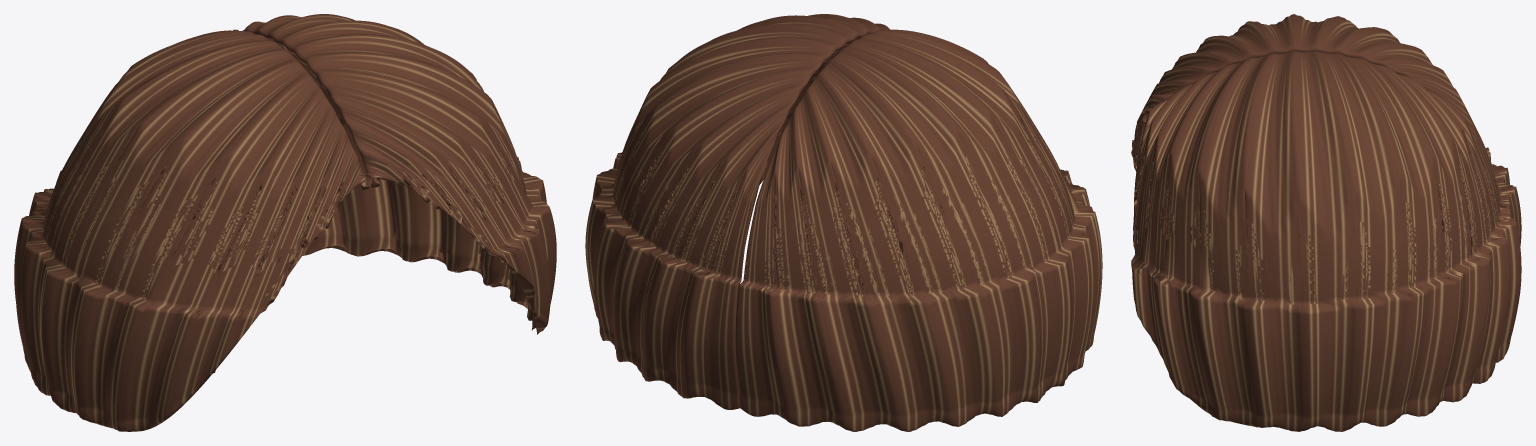
File: Highlights-3c310fe1261f252-hair.glb
The picture shows the model from 3 angles, left to right: view 1: azimuth 30°, elevation 25°; view 2: azimuth 150°, elevation 25°; view 3: azimuth 270°, elevation 25°; orthographic projection. The views are drawn at different scales.
Parts seen in each view (by area): view 1: 226 hair / Hair252 / flowing sculpt middle.001; view 2: 226 hair / Hair252 / flowing sculpt middle.001; view 3: 226 hair / Hair252 / flowing sculpt middle.001.
Boxes of the visible parts, bbox=[...] form: 226 hair / Hair252 / flowing sculpt middle.001: bbox=[14, 14, 556, 431]; 226 hair / Hair252 / flowing sculpt middle.001: bbox=[585, 14, 1102, 431]; 226 hair / Hair252 / flowing sculpt middle.001: bbox=[1131, 14, 1521, 431].
Bounding box in the file's own units: 1.06 × 0.6587 × 0.8121.
Materials: 1 (1 with a texture image).
